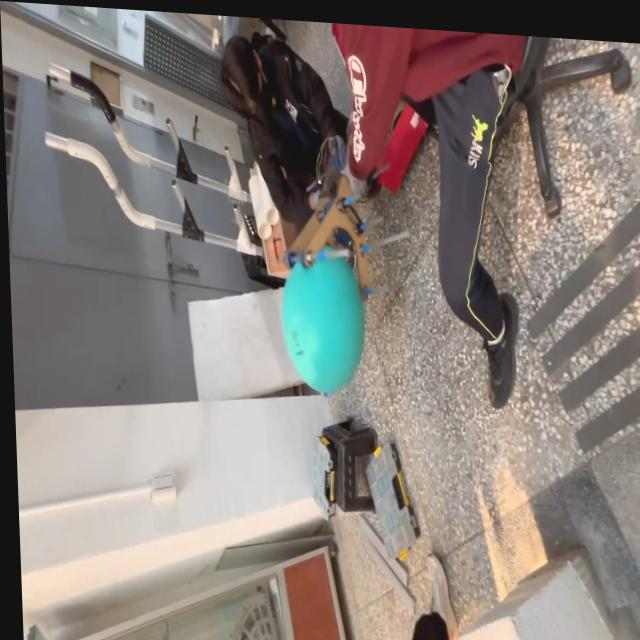ALGAE: (277, 243, 369, 399)
